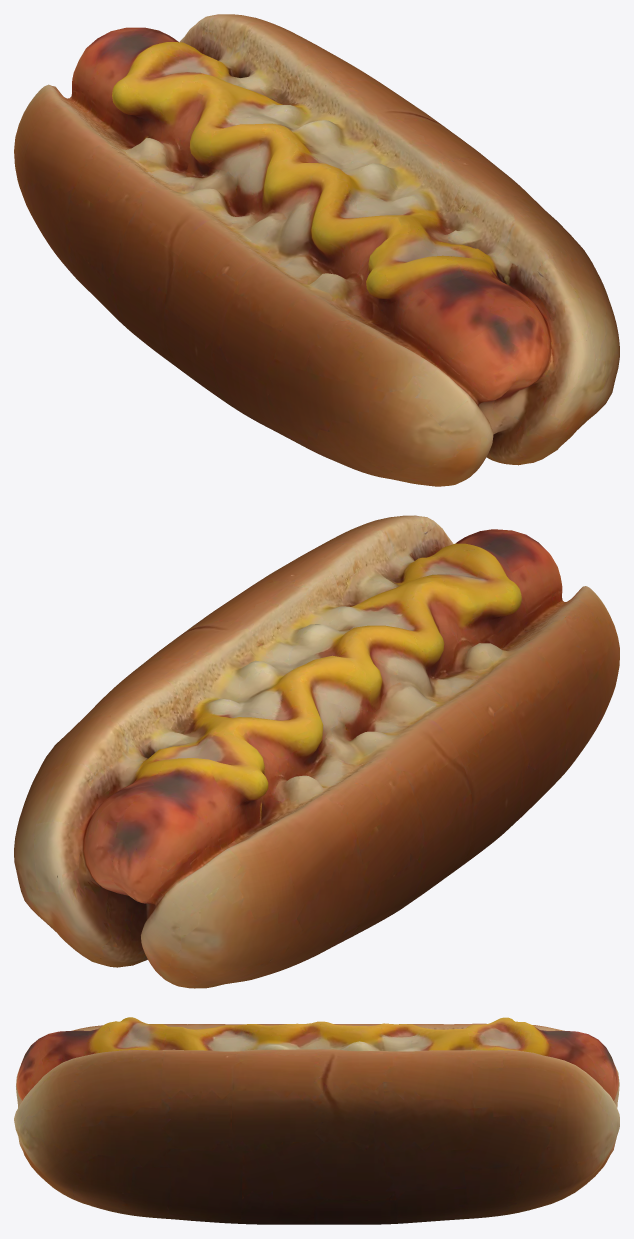
The model's file is hotdog-DC3NVcu8.glb.
The picture shows the model from 3 angles, top to bottom: view 1: azimuth 30°, elevation 25°; view 2: azimuth 150°, elevation 25°; view 3: azimuth 270°, elevation 25°; orthographic projection. The views are drawn at different scales.
Visible parts, largest first — view 1: hotdogbun_Baked; view 2: hotdogbun_Baked; view 3: hotdogbun_Baked.
Boxes of the visible parts, x1,y1,x2,y2 form: hotdogbun_Baked: (14, 14, 619, 486); hotdogbun_Baked: (14, 515, 619, 988); hotdogbun_Baked: (14, 1017, 619, 1224).
Bounding box in the file's own units: 0.0387 × 0.0257 × 0.0878.
Materials: 1 (1 with a texture image).
